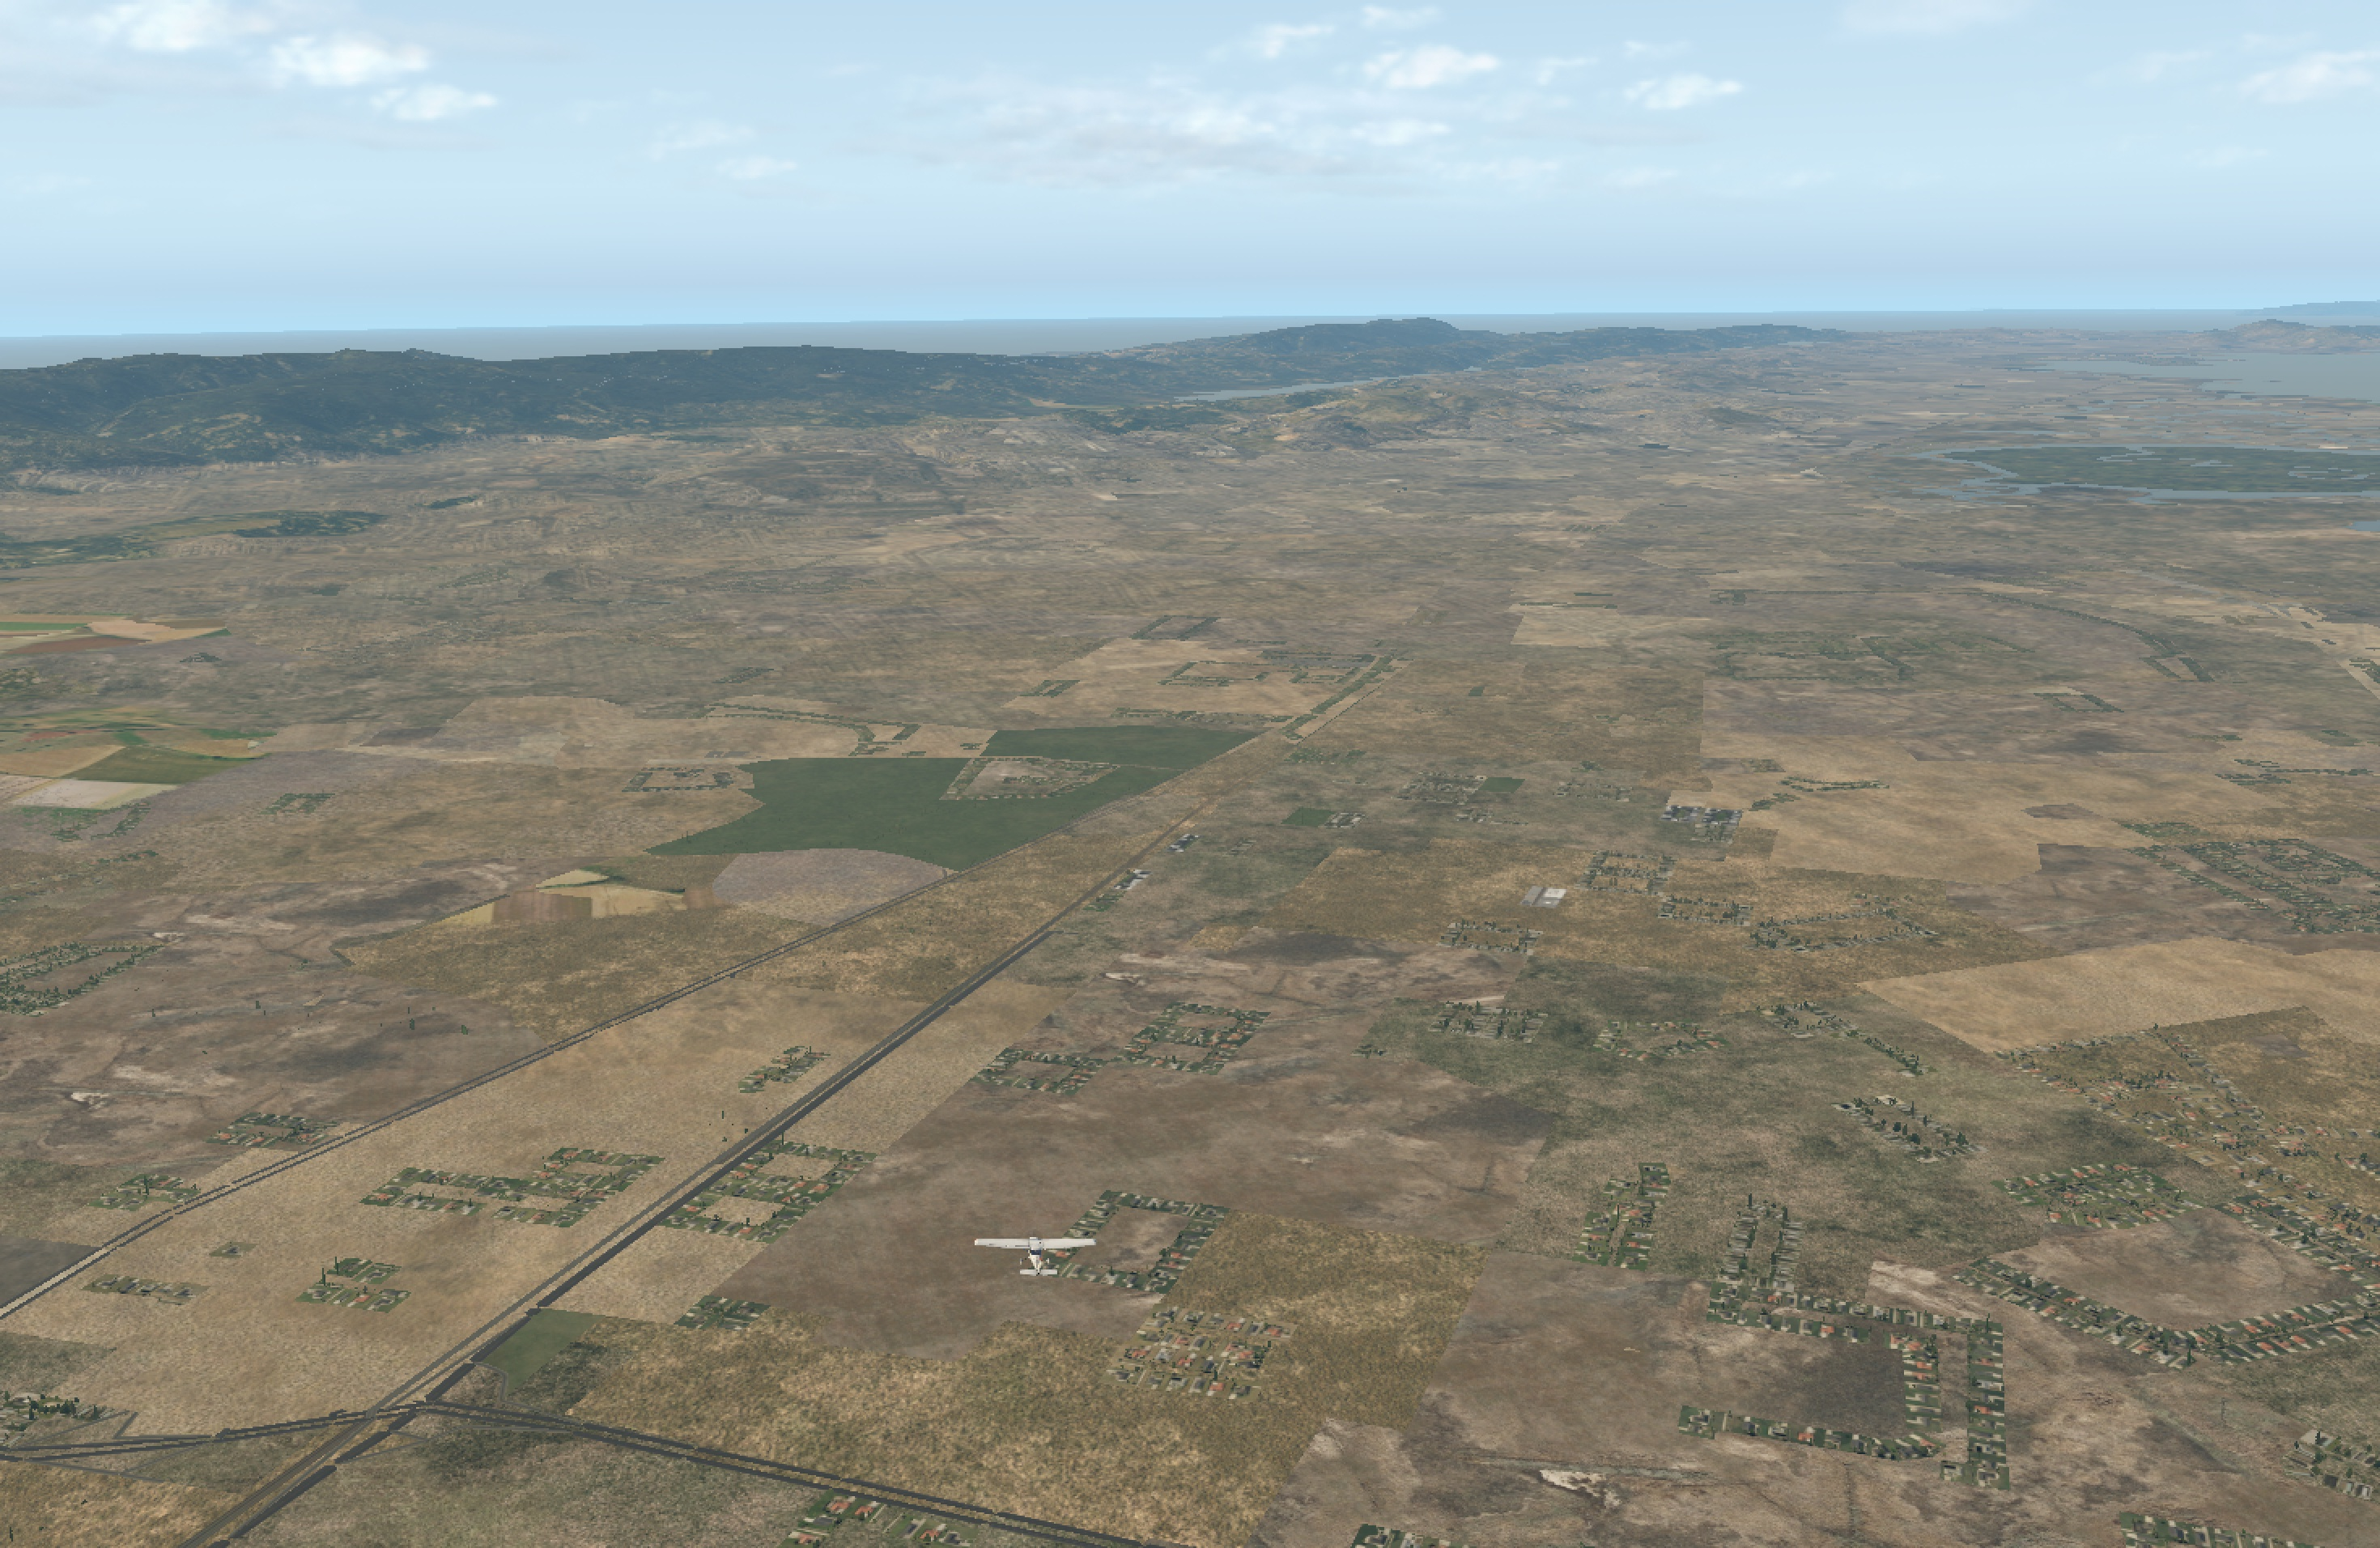aircraft: (992, 1232, 1077, 1263)
